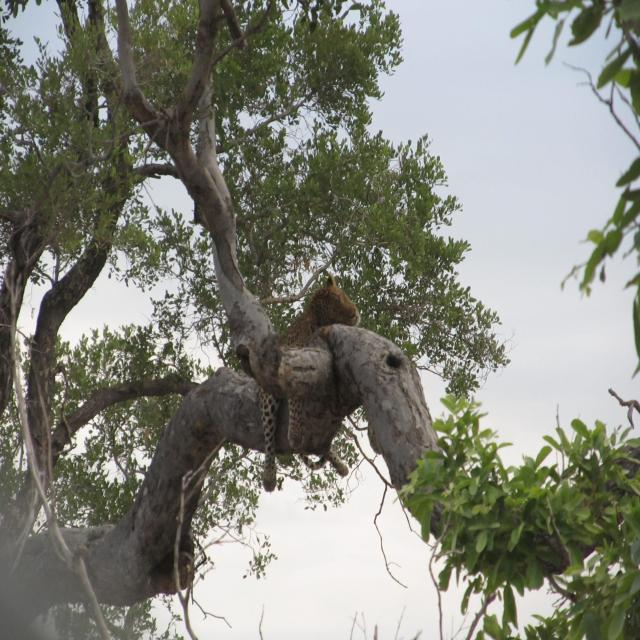Leopard: (213, 255, 414, 514)
